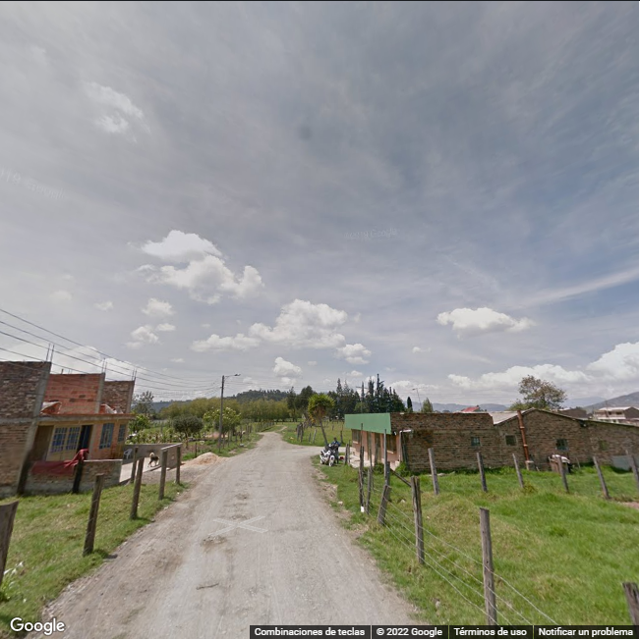D10: (188, 580, 221, 595)
D40: (199, 531, 228, 551)
